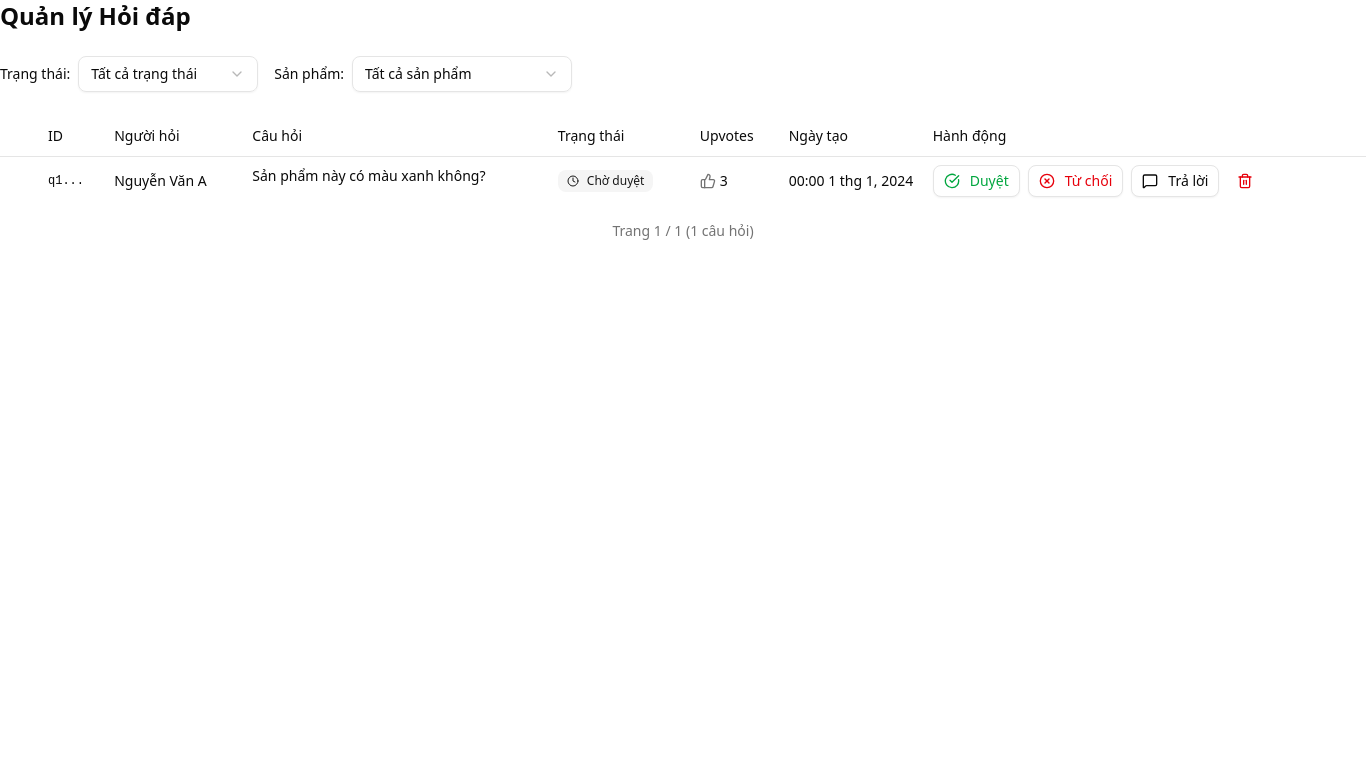
Test: Wave4B-2 G-A — AdminQAPage answer dialog (M02, S06) › reflects length validation and connects submit errors (M02, S06)
Click the button "Trả lời" at (1175, 180), box [1131,164,1219,196]
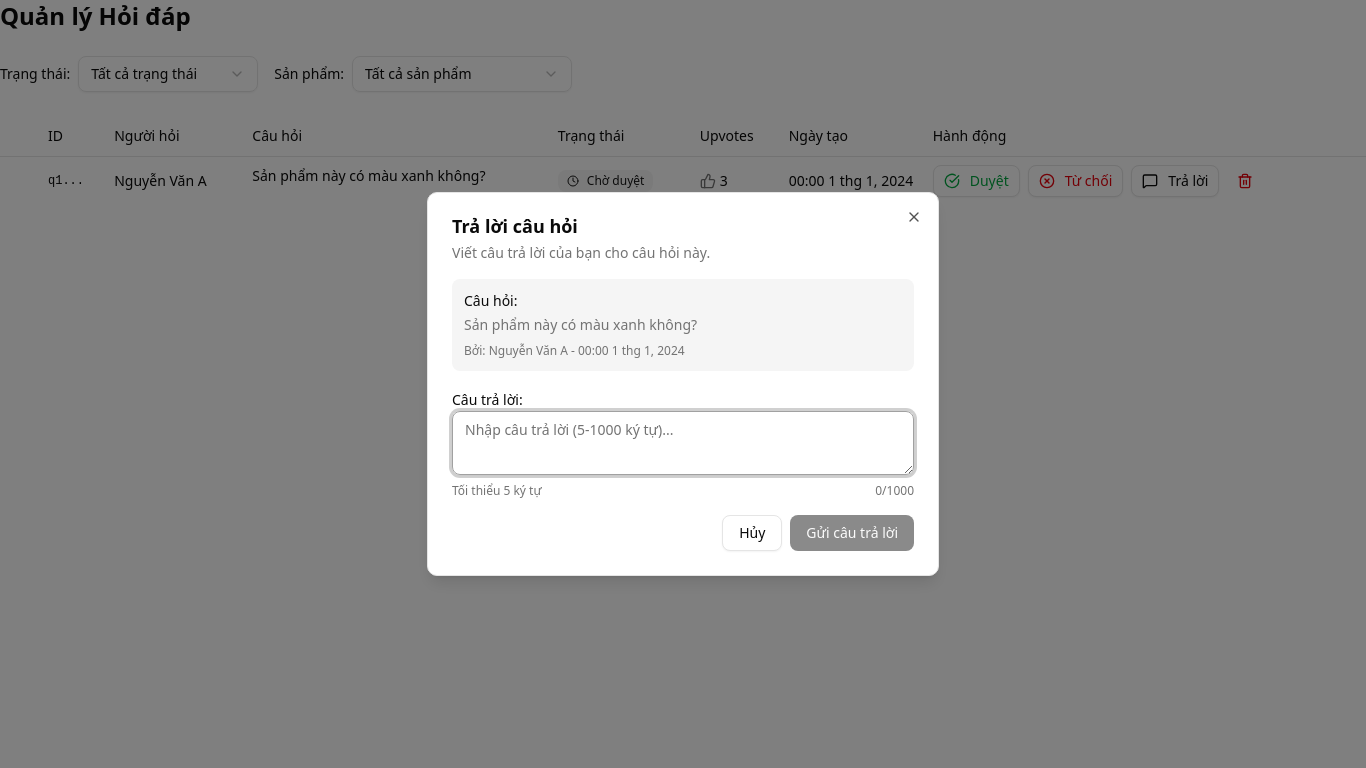
Type "abc" into the text box labelled "Câu trả lời:" at (683, 443), box [452,411,914,475]
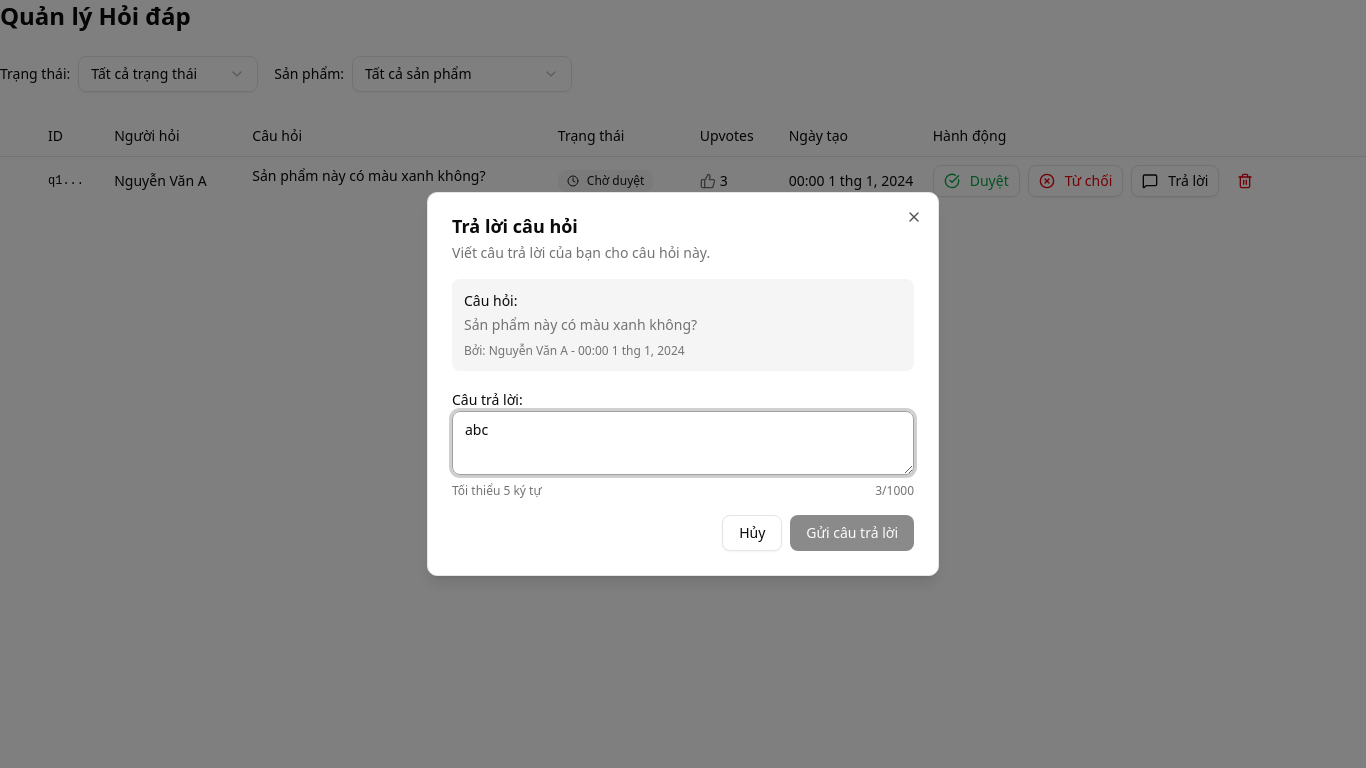
Check: the text box labelled "Câu trả lời:" is marked as invalid
Replace the text in the text box labelled "Câu trả lời:" with "Đây là câu trả lời hợp lệ" at (683, 443), box [452,411,914,475]
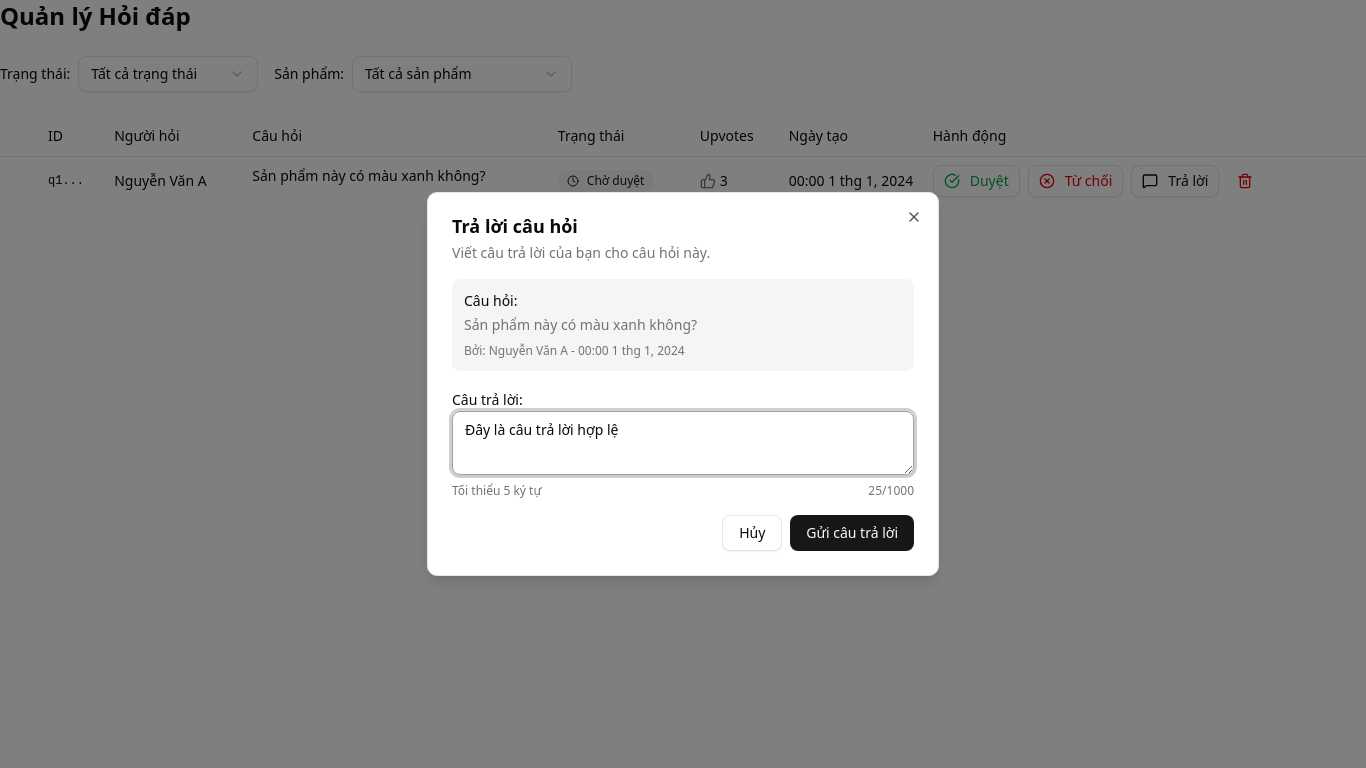
Check: the text box labelled "Câu trả lời:" is not marked as invalid, box [452,411,914,475]
Click the button "Gửi câu trả lời" at (852, 533), box [790,515,914,551]
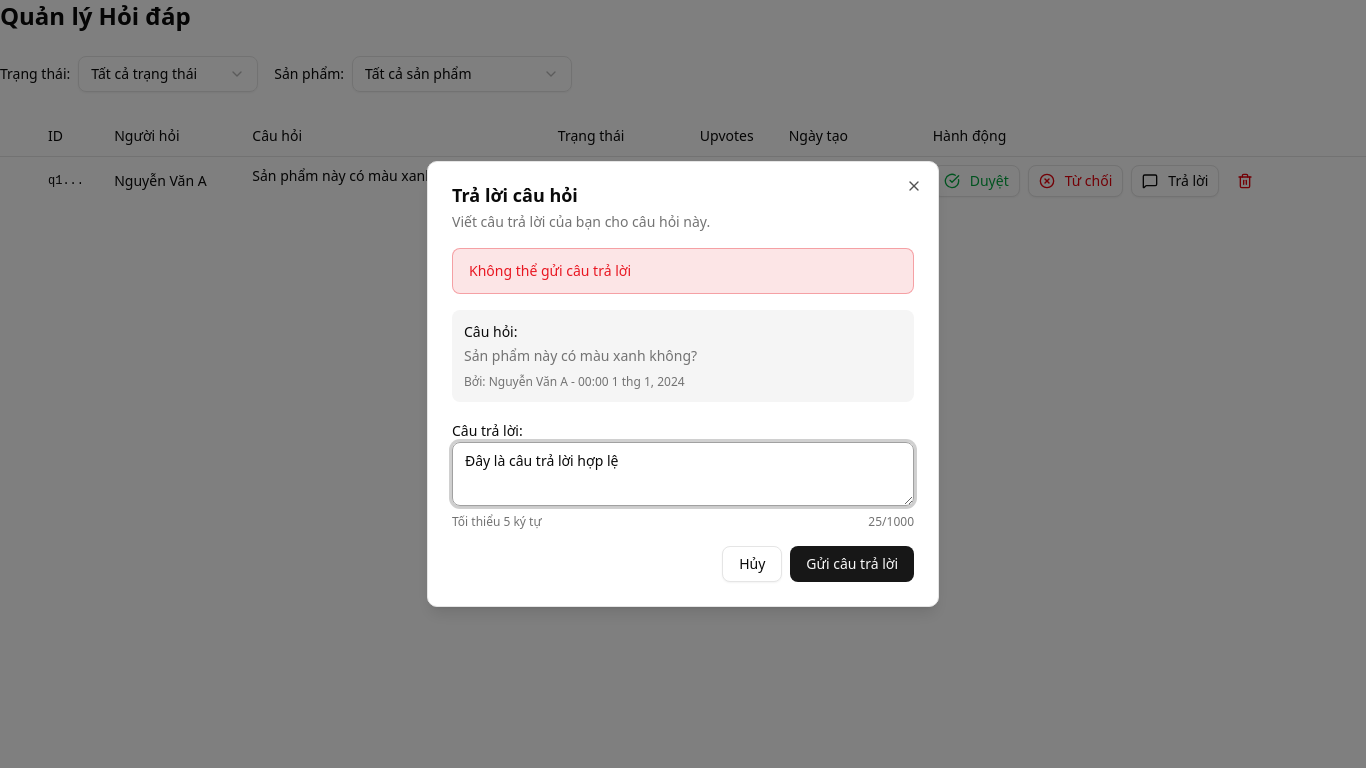
Check: the message "Không thể gửi câu trả lời" is shown, box [452,248,914,294]
